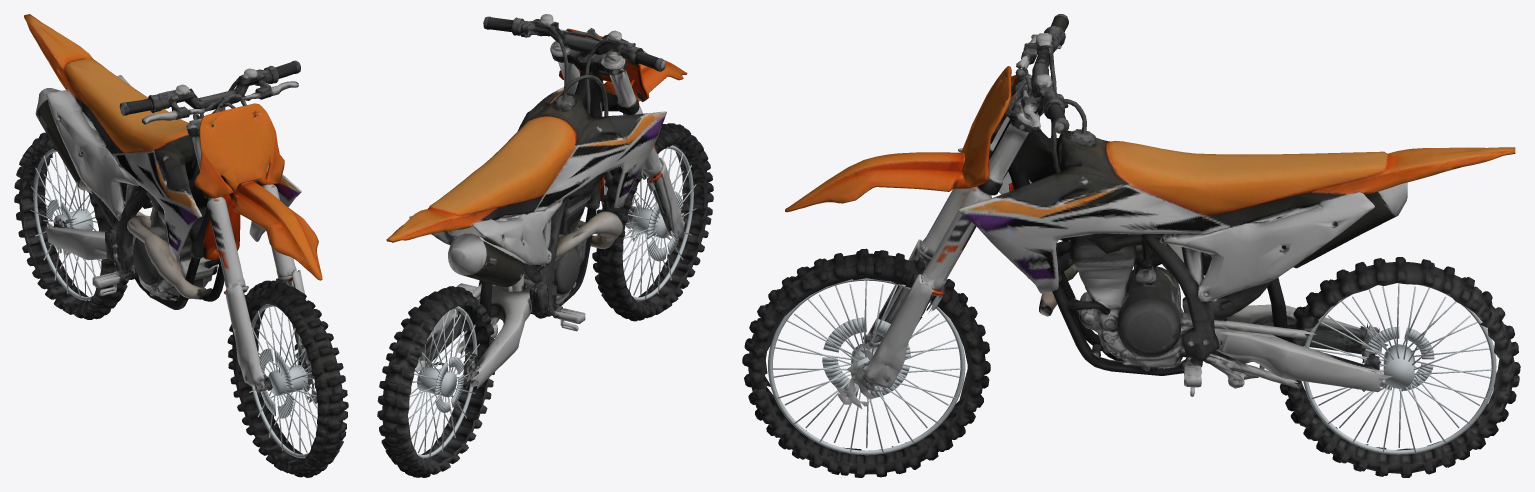
The model's file is orange-cross-DQQ2mkX8.glb.
The picture shows the model from 3 angles, left to right: view 1: azimuth 30°, elevation 25°; view 2: azimuth 150°, elevation 25°; view 3: azimuth 270°, elevation 25°; orthographic projection. The views are drawn at different scales.
Parts seen in each view (by area): view 1: SM_Tripo_Body, SM_Tripo_Fork, SM_Tripo_WheelFront, SM_Tripo_WheelRear, SM_Tripo_WheelFront_CleanSpokes, SM_Tripo_WheelRear_CleanSpokes, SM_Tripo_Handlebar, SM_Tripo_Swingarm_Chain; view 2: SM_Tripo_Body, SM_Tripo_WheelRear, SM_Tripo_Fork, SM_Tripo_WheelFront, SM_Tripo_Swingarm_Chain, SM_Tripo_WheelRear_CleanSpokes, SM_Tripo_Handlebar, SM_Tripo_WheelFront_CleanSpokes; view 3: SM_Tripo_Body, SM_Tripo_Fork, SM_Tripo_WheelRear, SM_Tripo_WheelFront, SM_Tripo_Swingarm_Chain, SM_Tripo_WheelRear_CleanSpokes, SM_Tripo_WheelFront_CleanSpokes, SM_Tripo_Handlebar.
Boxes of the visible parts, x1,y1,x2,y2 form: SM_Tripo_Body: [24, 14, 295, 309]; SM_Tripo_Fork: [142, 66, 348, 474]; SM_Tripo_WheelFront: [229, 280, 347, 477]; SM_Tripo_WheelRear: [14, 132, 128, 319]; SM_Tripo_WheelFront_CleanSpokes: [249, 304, 317, 458]; SM_Tripo_WheelRear_CleanSpokes: [30, 149, 101, 300]; SM_Tripo_Handlebar: [119, 60, 300, 142]; SM_Tripo_Swingarm_Chain: [45, 215, 150, 260]; SM_Tripo_Body: [386, 68, 661, 331]; SM_Tripo_WheelRear: [377, 286, 494, 477]; SM_Tripo_Fork: [516, 14, 713, 317]; SM_Tripo_WheelFront: [594, 123, 711, 321]; SM_Tripo_Swingarm_Chain: [414, 276, 545, 388]; SM_Tripo_WheelRear_CleanSpokes: [408, 306, 479, 458]; SM_Tripo_Handlebar: [483, 16, 665, 78]; SM_Tripo_WheelFront_CleanSpokes: [622, 145, 696, 301]; SM_Tripo_Body: [943, 101, 1515, 396]; SM_Tripo_Fork: [749, 26, 1074, 477]; SM_Tripo_WheelRear: [1277, 257, 1520, 477]; SM_Tripo_WheelFront: [742, 248, 990, 477]; SM_Tripo_Swingarm_Chain: [1220, 231, 1392, 392]; SM_Tripo_WheelRear_CleanSpokes: [1303, 283, 1496, 454]; SM_Tripo_WheelFront_CleanSpokes: [768, 278, 965, 455]; SM_Tripo_Handlebar: [989, 14, 1073, 133].
Bounding box in the file's own units: 0.8394 × 1.54 × 2.57.
2 materials, 1 textured.
